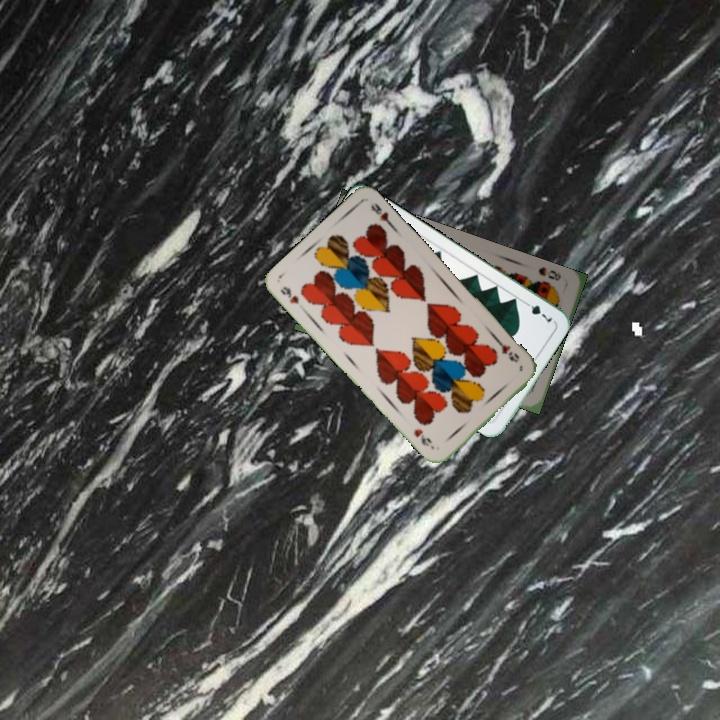G7: (519, 297, 555, 326)
H9: (493, 336, 522, 366), (276, 282, 302, 306)
S8: (534, 263, 564, 283)
